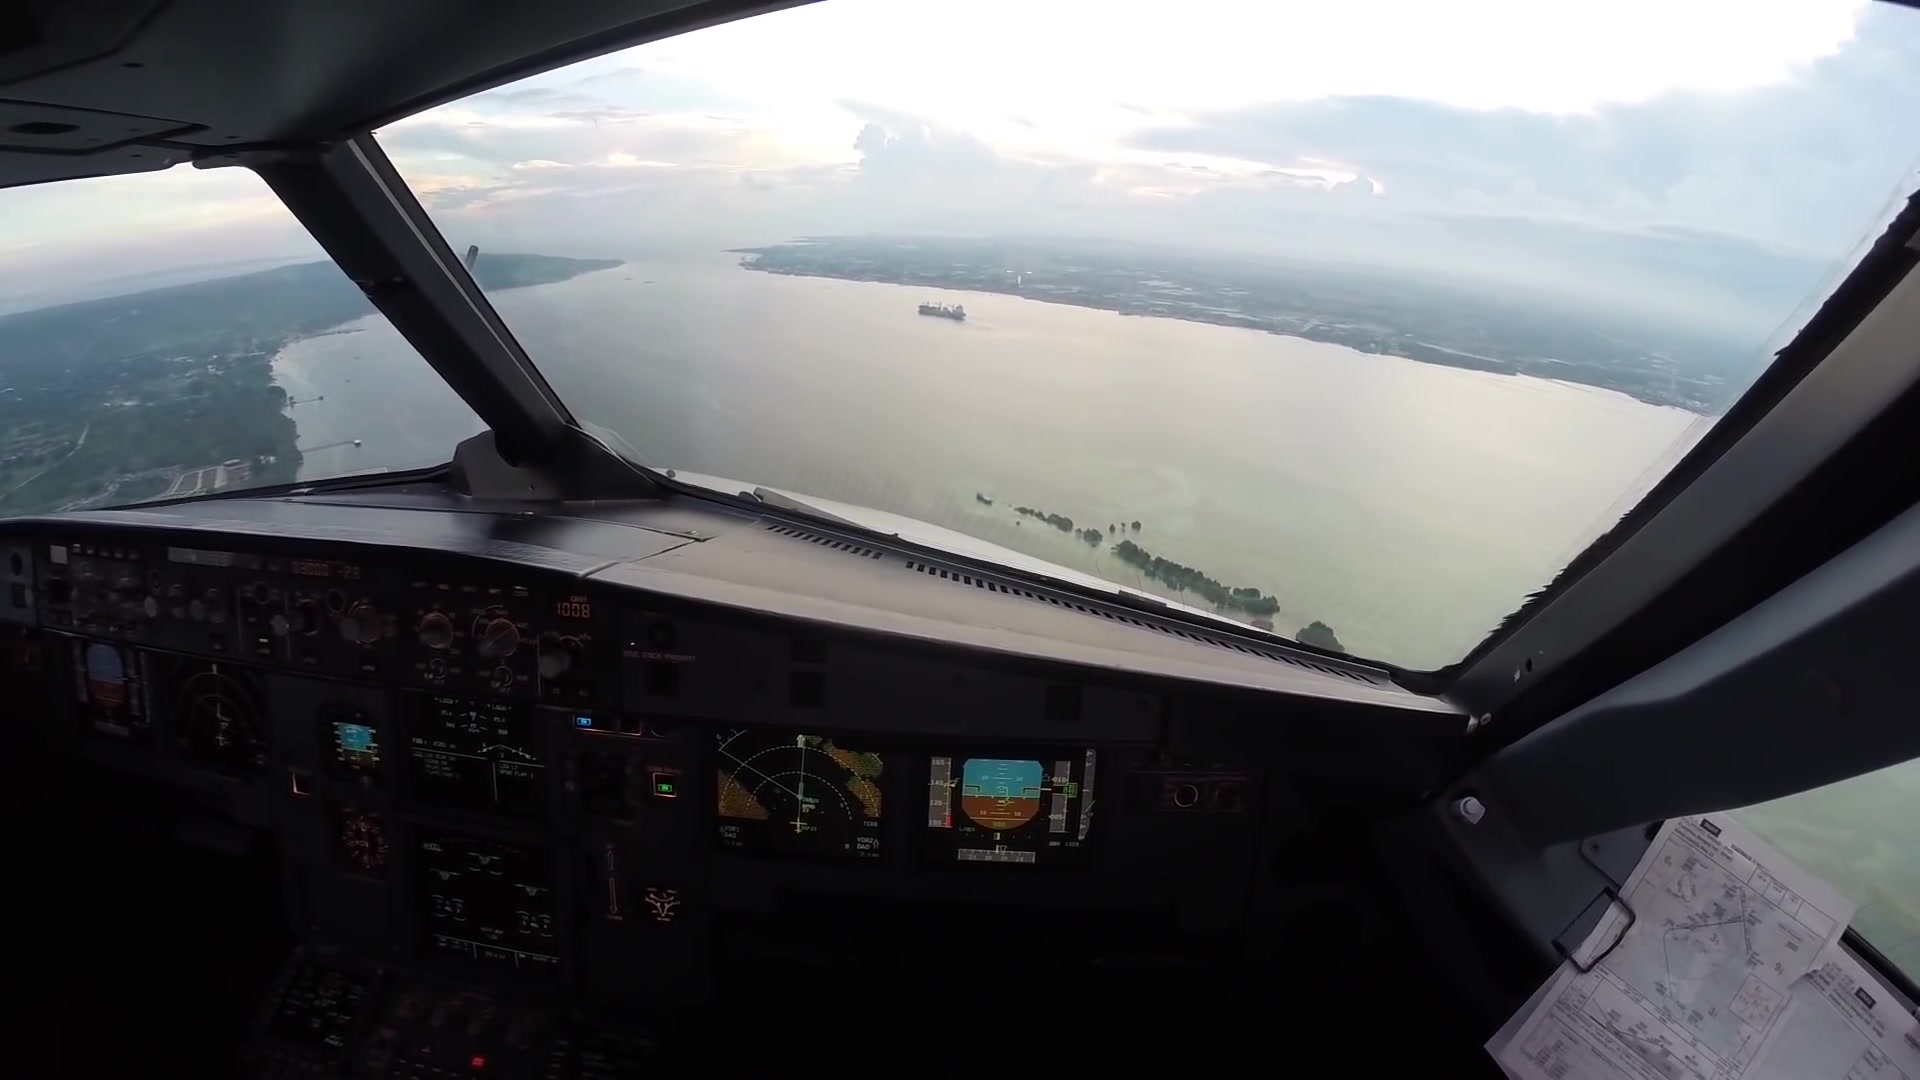runway: (1007, 237, 1031, 284)
